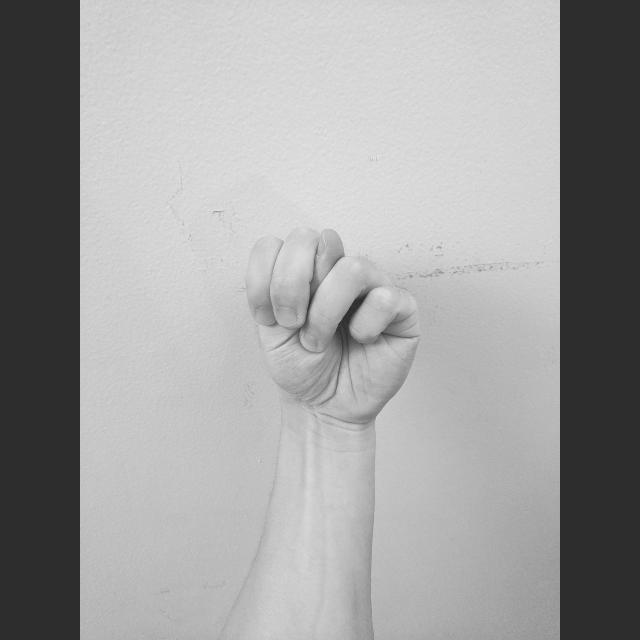N: (241, 222, 427, 428)
